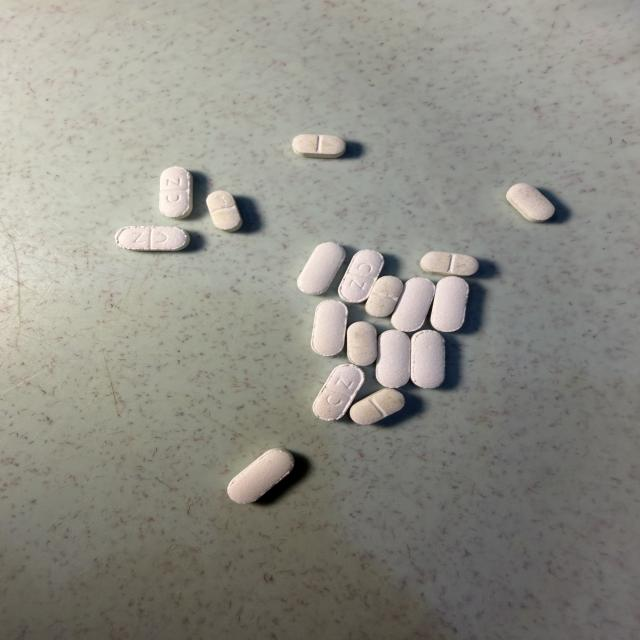pill: (228, 449, 294, 503), (313, 364, 364, 420), (297, 242, 345, 294), (338, 250, 384, 303), (391, 277, 434, 331), (431, 277, 468, 332), (311, 300, 347, 356), (411, 330, 445, 388), (376, 330, 410, 388), (350, 389, 404, 424), (115, 227, 190, 251), (507, 184, 554, 222), (160, 167, 193, 218), (366, 276, 402, 317), (207, 191, 242, 232), (421, 252, 479, 276), (347, 322, 377, 366), (293, 135, 346, 158)
